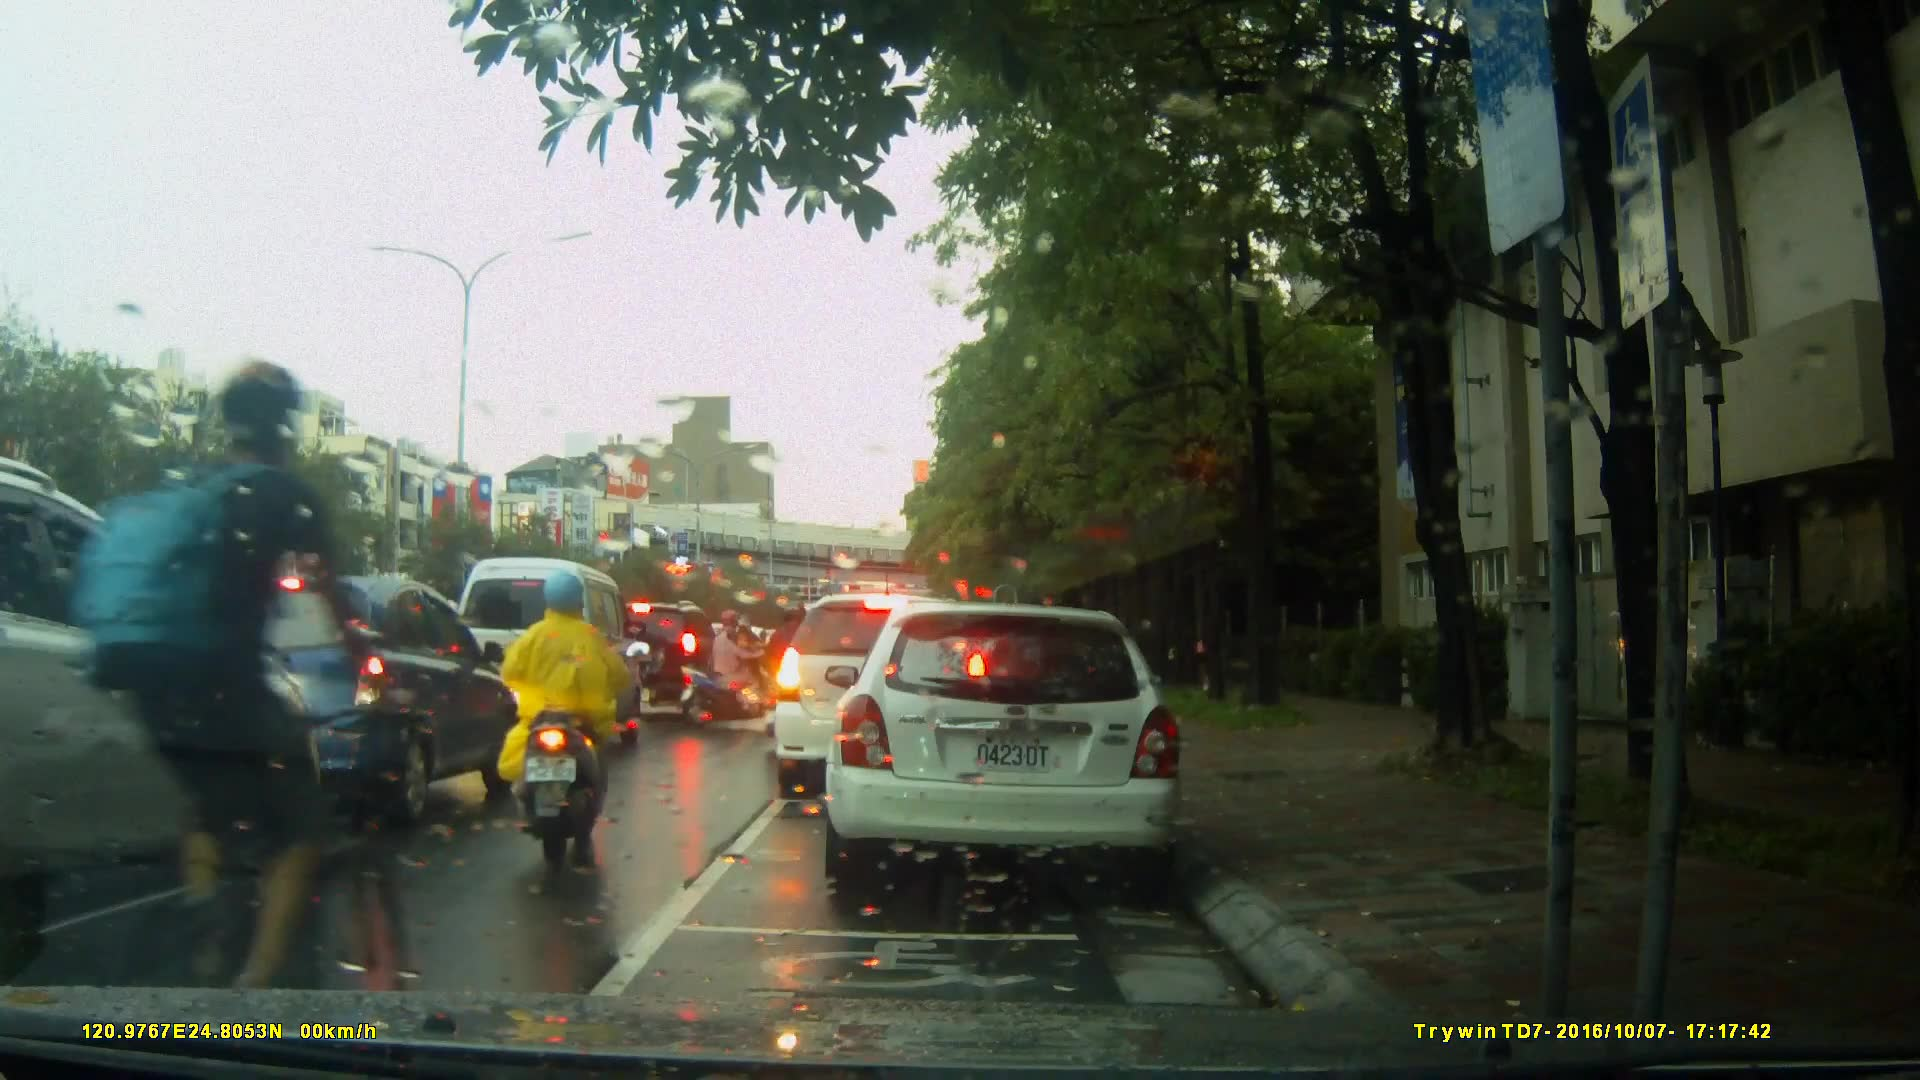rider: (55, 358, 403, 1048), (491, 575, 649, 865), (678, 606, 769, 720), (771, 603, 811, 722)
vehicle: (1, 439, 327, 987), (815, 593, 1204, 909), (177, 572, 529, 834), (770, 590, 995, 802), (443, 556, 650, 766), (596, 599, 739, 716)
